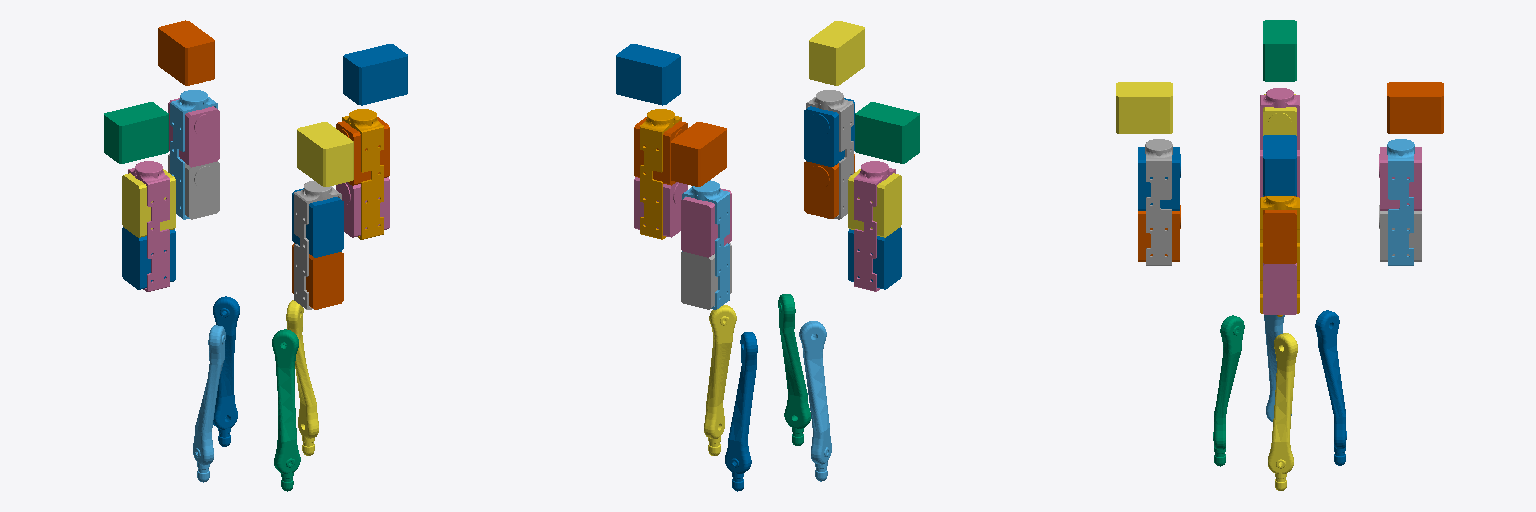
--- What the picture shows (computed from the rendered views, not written in the file) ---
3 views of the same robot in one strip: view 1: azimuth 30°, elevation 25°; view 2: azimuth 150°, elevation 25°; view 3: azimuth 270°, elevation 25° (orthographic).
Robot: robot — 38 links, 37 joints (12 revolute, 25 fixed); root link dummy; default pose: every joint at zero.
Visible links, largest first — view 1: 0-xm430_0, 2-xm430_0, 1-finger2, 3-xm430_0, 1-xm430_0, 0-dual_servo_shell, 2-dual_servo_shell, 3-finger2, 0-finger2, 1-xm430_1, 1-dual_servo_shell, 2-finger2 (+8 smaller); view 2: 0-xm430_0, 2-xm430_0, 1-xm430_0, 3-xm430_0, 0-finger2, 2-dual_servo_shell, 0-dual_servo_shell, 3-finger2, 2-finger2, 1-finger2, 3-dual_servo_shell, 1-xm430_1 (+8 smaller); view 3: 1-dual_servo_shell, 3-dual_servo_shell, 1-xm430_0, 3-xm430_0, 2-finger2, 3-finger2, 1-finger2, 0-xm430_0, 2-xm430_0, 2-xm430_1, 2-xm430_2, 1-xm430_1 (+7 smaller).
Link boxes in pixels (bbox=[...]): 0-xm430_0: bbox=[104, 102, 168, 163]; 2-xm430_0: bbox=[343, 44, 407, 105]; 1-finger2: bbox=[272, 329, 300, 491]; 3-xm430_0: bbox=[158, 20, 214, 85]; 1-xm430_0: bbox=[297, 122, 353, 186]; 0-dual_servo_shell: bbox=[128, 161, 169, 291]; 2-dual_servo_shell: bbox=[342, 109, 383, 239]; 3-finger2: bbox=[213, 296, 239, 446]; 0-finger2: bbox=[193, 325, 225, 482]; 1-xm430_1: bbox=[292, 188, 343, 257]; 1-dual_servo_shell: bbox=[294, 181, 341, 309]; 2-finger2: bbox=[286, 300, 318, 455]; 0-xm430_0: bbox=[855, 102, 919, 163]; 2-xm430_0: bbox=[616, 44, 680, 105]; 1-xm430_0: bbox=[809, 21, 864, 85]; 3-xm430_0: bbox=[671, 122, 726, 186]; 0-finger2: bbox=[799, 321, 831, 481]; 2-dual_servo_shell: bbox=[640, 109, 681, 239]; 0-dual_servo_shell: bbox=[854, 161, 895, 291]; 3-finger2: bbox=[725, 332, 757, 491]; 2-finger2: bbox=[704, 305, 736, 455]; 1-finger2: bbox=[778, 294, 810, 445]; 3-dual_servo_shell: bbox=[682, 180, 729, 309]; 1-xm430_1: bbox=[804, 98, 854, 166]; 1-dual_servo_shell: bbox=[1145, 139, 1172, 265]; 3-dual_servo_shell: bbox=[1387, 139, 1414, 265]; 1-xm430_0: bbox=[1116, 82, 1172, 133]; 3-xm430_0: bbox=[1387, 82, 1443, 133]; 2-finger2: bbox=[1268, 333, 1297, 490]; 3-finger2: bbox=[1315, 310, 1346, 465]; 1-finger2: bbox=[1213, 315, 1244, 466]; 0-xm430_0: bbox=[1263, 20, 1296, 81]; 2-xm430_0: bbox=[1263, 135, 1296, 195]; 2-xm430_1: bbox=[1263, 196, 1296, 263]; 2-xm430_2: bbox=[1263, 263, 1296, 314]; 1-xm430_1: bbox=[1138, 147, 1180, 210].
Size in the robot's own frame: 0.2705 by 0.2705 by 0.3429 metres.
Meshes: 6 distinct files referenced, 20 mesh visuals loaded (3 OBJ); not drawn: 12 (reference not matched to a file when rendering).

The robot description file, URDF, robot "robot":
<?xml version="1.0" encoding="utf-8"?>
<!-- =================================================================================== -->
<!-- |    This document was autogenerated by xacro from quad_finger.urdf.xacro         | -->
<!-- |    EDITING THIS FILE BY HAND IS NOT RECOMMENDED                                 | -->
<!-- =================================================================================== -->
<robot>
  <link name="dummy">
    <inertial>
      <mass value="0"/>
      <inertia ixx="0.0" ixy="0.0" ixz="0.0" iyy="0.0" iyz="0.0" izz="0.0"/>
    </inertial>
  </link>
  <link name="z_offset_link">
    <inertial>
      <mass value="0"/>
      <inertia ixx="0.0" ixy="0.0" ixz="0.0" iyy="0.0" iyz="0.0" izz="0.0"/>
    </inertial>
  </link>
  <joint name="z_offset" type="fixed">
    <parent link="dummy"/>
    <child link="z_offset_link"/>
    <origin rpy="0 0 0" xyz="0 0 0.5"/>
  </joint>
  <!-->
                module 4

       module1  . origin  module 3

                 module 2
    <-->
  <link name="0-xm430_0">
    <inertial>
      <origin rpy="0 0 0" xyz="-4.0773796e-3 -1.5304911e-2 -1.6871895e-2"/>
      <mass value="0.082"/>
      <inertia ixx="2.3729564e-5" ixy="-1.3079758e-7" ixz="-8.1403365e-8" iyy="1.3112295e-5" iyz="-1.9659314e-6" izz="2.0942871e-5"/>
    </inertial>
    <visual>
      <origin rpy="0.0 0.0 0.0" xyz="0.0 0.0 0.0"/>
      <geometry>
        <mesh filename="./mesh/xm430.obj" scale="0.001 0.001 0.001"/>
      </geometry>
    </visual>
    <collision>
      <origin rpy="0.0 0.0 0.0" xyz="0.0 0.0 0.0"/>
      <geometry>
        <mesh filename="./mesh/xm430.obj" scale="0.001 0.001 0.001"/>
      </geometry>
    </collision>
  </link>
  <link name="0-xm430_1">
    <inertial>
      <origin rpy="0 0 0" xyz="-4.0773796e-3 -1.5304911e-2 -1.6871895e-2"/>
      <mass value="0.082"/>
      <inertia ixx="2.3729564e-5" ixy="-1.3079758e-7" ixz="-8.1403365e-8" iyy="1.3112295e-5" iyz="-1.9659314e-6" izz="2.0942871e-5"/>
    </inertial>
    <visual>
      <origin rpy="0.0 0.0 0.0" xyz="0.0 0.0 0.0"/>
      <geometry>
        <mesh filename="./mesh/xm430.obj" scale="0.001 0.001 0.001"/>
      </geometry>
    </visual>
    <collision>
      <origin rpy="0.0 0.0 0.0" xyz="0.0 0.0 0.0"/>
      <geometry>
        <mesh filename="./mesh/xm430.obj" scale="0.001 0.001 0.001"/>
      </geometry>
    </collision>
  </link>
  <link name="0-xm430_2">
    <inertial>
      <origin rpy="0 0 0" xyz="-4.0773796e-3 -1.5304911e-2 -1.6871895e-2"/>
      <mass value="0.082"/>
      <inertia ixx="2.3729564e-5" ixy="-1.3079758e-7" ixz="-8.1403365e-8" iyy="1.3112295e-5" iyz="-1.9659314e-6" izz="2.0942871e-5"/>
    </inertial>
    <visual>
      <origin rpy="0.0 0.0 0.0" xyz="0.0 0.0 0.0"/>
      <geometry>
        <mesh filename="./mesh/xm430.obj" scale="0.001 0.001 0.001"/>
      </geometry>
    </visual>
    <collision>
      <origin rpy="0.0 0.0 0.0" xyz="0.0 0.0 0.0"/>
      <geometry>
        <mesh filename="./mesh/xm430.obj" scale="0.001 0.001 0.001"/>
      </geometry>
    </collision>
  </link>
  <link name="0-base_motor_frame">
    <inertial>
      <origin rpy="0 0 0" xyz="6.48e-08 -0.0015864406 0.0250889877"/>
      <mass value="0.0768049156"/>
      <inertia ixx="5.65659e-05" ixy="-0.0" ixz="1e-10" iyy="5.30145e-05" iyz="1.1663e-06" izz="3.40217e-05"/>
    </inertial>
    <visual>
      <origin rpy="0 0 0" xyz="0 0 0"/>
      <geometry>
        <mesh filename="./mesh/base_motor_frame.obj" scale="0.001 0.001 0.001"/>
      </geometry>
    </visual>
    <collision>
      <origin rpy="0 0 0" xyz="0 0 0"/>
      <geometry>
        <mesh filename="./mesh/base_motor_frame.obj" scale="0.001 0.001 0.001"/>
      </geometry>
    </collision>
  </link>
  <link name="0-dual_servo_shell">
    <inertial>
      <origin rpy="0 0 0" xyz="0.0005322566 -0.0003161331 0.0506920676"/>
      <mass value="0.0258069457"/>
      <inertia ixx="4.11451e-05" ixy="7.82e-08" ixz="-7.721e-07" iyy="4.42386e-05" iyz="2.774e-07" izz="4.8477e-06"/>
    </inertial>
    <visual>
      <origin rpy="0.0 0.0 0.0" xyz="0.0 0.0 0.0"/>
      <geometry>
        <mesh filename="./mesh/dual_servo_shell.obj" scale="0.001 0.001 0.001"/>
      </geometry>
    </visual>
    <collision>
      <origin rpy="0.0 0.0 0.0" xyz="0.0 0.0 0.0"/>
      <geometry>
        <mesh filename="./mesh/dual_servo_shell.obj" scale="0.001 0.001 0.001"/>
      </geometry>
    </collision>
  </link>
  <link name="0-dual_servo_transmission">
    <inertial>
      <origin rpy="0 0 0" xyz="-1.41e-08 0.0095354556 0.0141401617"/>
      <mass value="0.0576887165"/>
      <inertia ixx="2.78223e-05" ixy="5.7e-09" ixz="-0.0" iyy="1.35978e-05" iyz="4.5419e-06" izz="2.50167e-05"/>
    </inertial>
    <visual>
      <origin rpy="0.0 0.0 0.0" xyz="0.0 0.0 0.0"/>
      <geometry>
        <mesh filename="./mesh/dual_servo_transmission_simplified.obj" scale="0.001 0.001 0.001"/>
      </geometry>
    </visual>
    <collision>
      <origin rpy="0.0 0.0 0.0" xyz="0.0 0.0 0.0"/>
      <geometry>
        <mesh filename="./mesh/dual_servo_transmission_simplified.obj" scale="0.001 0.001 0.001"/>
      </geometry>
    </collision>
  </link>
  <link name="0-finger1">
    <inertial>
      <origin rpy="0 0 0" xyz=" -0.0026344221 -0.0673645556 -0.0033892017"/>
      <mass value="0.0273686016"/>
      <inertia ixx="3.82526e-05" ixy="-1.6373e-06" ixz="-1.96e-07" iyy="1.4086e-06" iyz="4.307e-07" izz="3.86145e-05"/>
    </inertial>
    <visual>
      <origin rpy="0.0 0.0 0.0" xyz="0.0 0.0 0.0"/>
      <geometry>
        <mesh filename="./mesh/finger1.obj" scale="0.001 0.001 0.001"/>
      </geometry>
    </visual>
    <collision>
      <origin rpy="0.0 0.0 0.0" xyz="0.0 0.0 0.0"/>
      <geometry>
        <mesh filename="./mesh/finger1.obj" scale="0.001 0.001 0.001"/>
      </geometry>
    </collision>
  </link>
  <link name="0-finger2">
    <inertial>
      <origin rpy="0 0 0" xyz=" -0.0025634596 -0.0642987636 0.003878593"/>
      <mass value="0.0282885857"/>
      <inertia ixx="4.51291e-05" ixy="-1.8472e-06" ixz="1.613e-07" iyy="1.3194e-06" iyz="-1.3204e-06" izz="4.53013e-05"/>
    </inertial>
    <visual>
      <origin rpy="0.0 0.0 0.0" xyz="0.0 0.0 0.0"/>
      <geometry>
        <mesh filename="./mesh/finger2.obj" scale="0.001 0.001 0.001"/>
      </geometry>
    </visual>
    <collision>
      <origin rpy="0.0 0.0 0.0" xyz="0.0 0.0 0.0"/>
      <geometry>
        <mesh filename="./mesh/finger2.obj" scale="0.001 0.001 0.001"/>
      </geometry>
    </collision>
  </link>
  <!--Create joints to connect the parts-->
  <!--Fix the module to module parent link-->
  <joint name="0-module_to_parent" type="fixed">
    <parent link="z_offset_link"/>
    <child link="0-base_motor_frame"/>
    <origin rpy="3.14159265 0 1.570796325" xyz="-0.1 0 0"/>
  </joint>
  <!--Fix the parts which are not supposed to move-->
  <joint name="0-fix_xm430_0" type="fixed">
    <parent link="0-base_motor_frame"/>
    <child link="0-xm430_0"/>
    <origin rpy="0 0 0" xyz="0 0 0.054"/>
  </joint>
  <joint name="0-fix_xm430_1" type="fixed">
    <parent link="0-dual_servo_shell"/>
    <child link="0-xm430_1"/>
    <origin rpy="-1.570796325 0 0" xyz="0 0.019 0.0334"/>
  </joint>
  <joint name="0-fix_xm430_2" type="fixed">
    <parent link="0-xm430_1"/>
    <child link="0-xm430_2"/>
    <origin rpy="0 0 0" xyz="0 -0.0465 0"/>
  </joint>
  <joint name="0-fix_transmission" type="fixed">
    <parent link="0-xm430_2"/>
    <child link="0-dual_servo_transmission"/>
    <origin rpy="0 0 0" xyz="0 0 0"/>
  </joint>
  <!--DoFs, joints corresponding to the degrees of actuation-->
  <joint name="0-dof1" type="revolute">
    <parent link="0-xm430_0"/>
    <child link="0-dual_servo_shell"/>
    <axis xyz="0 0 -1"/>
    <limit effort="1000" lower="-3.14159265" upper="3.14159265" velocity="1000"/>
    <origin rpy="0 0 0" xyz="0 0 0"/>
  </joint>
  <joint name="0-dof2" type="revolute">
    <parent link="0-xm430_2"/>
    <child link="0-finger1"/>
    <axis xyz="0 0 -1"/>
    <limit effort="1000" lower="-1.570796325" upper="1.570796325" velocity="1000"/>
    <origin rpy="0 0 0" xyz="0 0 0.0368"/>
  </joint>
  <joint name="0-dof3" type="revolute">
    <parent link="0-finger1"/>
    <child link="0-finger2"/>
    <axis xyz="0 0 -1"/>
    <limit effort="1000" lower="-2.3561944875" upper="2.3561944875" velocity="1000"/>
    <origin rpy="0 -0.7853981625 0" xyz="-0.0014142 -0.1 0.0014142"/>
  </joint>
  <!--frames that may be helpful-->
  <link name="0-fingertip_frame">
    <geometry>
      <origin rpy="0 0 0" xyz="0 0 0"/>
    </geometry>
  </link>
  <joint name="0-fingertip_frame_fix" type="fixed">
    <parent link="0-finger2"/>
    <child link="0-fingertip_frame"/>
    <origin rpy="0 0 0" xyz="-0.004242 -0.12 -0.004242"/>
  </joint>
  <link name="1-xm430_0">
    <inertial>
      <origin rpy="0 0 0" xyz="-4.0773796e-3 -1.5304911e-2 -1.6871895e-2"/>
      <mass value="0.082"/>
      <inertia ixx="2.3729564e-5" ixy="-1.3079758e-7" ixz="-8.1403365e-8" iyy="1.3112295e-5" iyz="-1.9659314e-6" izz="2.0942871e-5"/>
    </inertial>
    <visual>
      <origin rpy="0.0 0.0 0.0" xyz="0.0 0.0 0.0"/>
      <geometry>
        <mesh filename="./mesh/xm430.obj" scale="0.001 0.001 0.001"/>
      </geometry>
    </visual>
    <collision>
      <origin rpy="0.0 0.0 0.0" xyz="0.0 0.0 0.0"/>
      <geometry>
        <mesh filename="./mesh/xm430.obj" scale="0.001 0.001 0.001"/>
      </geometry>
    </collision>
  </link>
  <link name="1-xm430_1">
    <inertial>
      <origin rpy="0 0 0" xyz="-4.0773796e-3 -1.5304911e-2 -1.6871895e-2"/>
      <mass value="0.082"/>
      <inertia ixx="2.3729564e-5" ixy="-1.3079758e-7" ixz="-8.1403365e-8" iyy="1.3112295e-5" iyz="-1.9659314e-6" izz="2.0942871e-5"/>
    </inertial>
    <visual>
      <origin rpy="0.0 0.0 0.0" xyz="0.0 0.0 0.0"/>
      <geometry>
        <mesh filename="./mesh/xm430.obj" scale="0.001 0.001 0.001"/>
      </geometry>
    </visual>
    <collision>
      <origin rpy="0.0 0.0 0.0" xyz="0.0 0.0 0.0"/>
      <geometry>
        <mesh filename="./mesh/xm430.obj" scale="0.001 0.001 0.001"/>
      </geometry>
    </collision>
  </link>
  <link name="1-xm430_2">
    <inertial>
      <origin rpy="0 0 0" xyz="-4.0773796e-3 -1.5304911e-2 -1.6871895e-2"/>
      <mass value="0.082"/>
      <inertia ixx="2.3729564e-5" ixy="-1.3079758e-7" ixz="-8.1403365e-8" iyy="1.3112295e-5" iyz="-1.9659314e-6" izz="2.0942871e-5"/>
    </inertial>
    <visual>
      <origin rpy="0.0 0.0 0.0" xyz="0.0 0.0 0.0"/>
      <geometry>
        <mesh filename="./mesh/xm430.obj" scale="0.001 0.001 0.001"/>
      </geometry>
    </visual>
    <collision>
      <origin rpy="0.0 0.0 0.0" xyz="0.0 0.0 0.0"/>
      <geometry>
        <mesh filename="./mesh/xm430.obj" scale="0.001 0.001 0.001"/>
      </geometry>
    </collision>
  </link>
  <link name="1-base_motor_frame">
    <inertial>
      <origin rpy="0 0 0" xyz="6.48e-08 -0.0015864406 0.0250889877"/>
      <mass value="0.0768049156"/>
      <inertia ixx="5.65659e-05" ixy="-0.0" ixz="1e-10" iyy="5.30145e-05" iyz="1.1663e-06" izz="3.40217e-05"/>
    </inertial>
    <visual>
      <origin rpy="0 0 0" xyz="0 0 0"/>
      <geometry>
        <mesh filename="./mesh/base_motor_frame.obj" scale="0.001 0.001 0.001"/>
      </geometry>
    </visual>
    <collision>
      <origin rpy="0 0 0" xyz="0 0 0"/>
      <geometry>
        <mesh filename="./mesh/base_motor_frame.obj" scale="0.001 0.001 0.001"/>
      </geometry>
    </collision>
  </link>
  <link name="1-dual_servo_shell">
    <inertial>
      <origin rpy="0 0 0" xyz="0.0005322566 -0.0003161331 0.0506920676"/>
      <mass value="0.0258069457"/>
      <inertia ixx="4.11451e-05" ixy="7.82e-08" ixz="-7.721e-07" iyy="4.42386e-05" iyz="2.774e-07" izz="4.8477e-06"/>
    </inertial>
    <visual>
      <origin rpy="0.0 0.0 0.0" xyz="0.0 0.0 0.0"/>
      <geometry>
        <mesh filename="./mesh/dual_servo_shell.obj" scale="0.001 0.001 0.001"/>
      </geometry>
    </visual>
    <collision>
      <origin rpy="0.0 0.0 0.0" xyz="0.0 0.0 0.0"/>
      <geometry>
        <mesh filename="./mesh/dual_servo_shell.obj" scale="0.001 0.001 0.001"/>
      </geometry>
    </collision>
  </link>
  <link name="1-dual_servo_transmission">
    <inertial>
      <origin rpy="0 0 0" xyz="-1.41e-08 0.0095354556 0.0141401617"/>
      <mass value="0.0576887165"/>
      <inertia ixx="2.78223e-05" ixy="5.7e-09" ixz="-0.0" iyy="1.35978e-05" iyz="4.5419e-06" izz="2.50167e-05"/>
    </inertial>
    <visual>
      <origin rpy="0.0 0.0 0.0" xyz="0.0 0.0 0.0"/>
      <geometry>
        <mesh filename="./mesh/dual_servo_transmission_simplified.obj" scale="0.001 0.001 0.001"/>
      </geometry>
    </visual>
    <collision>
      <origin rpy="0.0 0.0 0.0" xyz="0.0 0.0 0.0"/>
      <geometry>
        <mesh filename="./mesh/dual_servo_transmission_simplified.obj" scale="0.001 0.001 0.001"/>
      </geometry>
    </collision>
  </link>
  <link name="1-finger1">
    <inertial>
      <origin rpy="0 0 0" xyz=" -0.0026344221 -0.0673645556 -0.0033892017"/>
      <mass value="0.0273686016"/>
      <inertia ixx="3.82526e-05" ixy="-1.6373e-06" ixz="-1.96e-07" iyy="1.4086e-06" iyz="4.307e-07" izz="3.86145e-05"/>
    </inertial>
    <visual>
      <origin rpy="0.0 0.0 0.0" xyz="0.0 0.0 0.0"/>
      <geometry>
        <mesh filename="./mesh/finger1.obj" scale="0.001 0.001 0.001"/>
      </geometry>
    </visual>
    <collision>
      <origin rpy="0.0 0.0 0.0" xyz="0.0 0.0 0.0"/>
      <geometry>
        <mesh filename="./mesh/finger1.obj" scale="0.001 0.001 0.001"/>
      </geometry>
    </collision>
  </link>
  <link name="1-finger2">
    <inertial>
      <origin rpy="0 0 0" xyz=" -0.0025634596 -0.0642987636 0.003878593"/>
      <mass value="0.0282885857"/>
      <inertia ixx="4.51291e-05" ixy="-1.8472e-06" ixz="1.613e-07" iyy="1.3194e-06" iyz="-1.3204e-06" izz="4.53013e-05"/>
    </inertial>
    <visual>
      <origin rpy="0.0 0.0 0.0" xyz="0.0 0.0 0.0"/>
      <geometry>
        <mesh filename="./mesh/finger2.obj" scale="0.001 0.001 0.001"/>
      </geometry>
    </visual>
    <collision>
      <origin rpy="0.0 0.0 0.0" xyz="0.0 0.0 0.0"/>
      <geometry>
        <mesh filename="./mesh/finger2.obj" scale="0.001 0.001 0.001"/>
      </geometry>
    </collision>
  </link>
  <!--Create joints to connect the parts-->
  <!--Fix the module to module parent link-->
  <joint name="1-module_to_parent" type="fixed">
    <parent link="z_offset_link"/>
    <child link="1-base_motor_frame"/>
    <origin rpy="3.14159265 0 3.14159265" xyz="0 -0.1 0"/>
  </joint>
  <!--Fix the parts which are not supposed to move-->
  <joint name="1-fix_xm430_0" type="fixed">
    <parent link="1-base_motor_frame"/>
    <child link="1-xm430_0"/>
    <origin rpy="0 0 0" xyz="0 0 0.054"/>
  </joint>
  <joint name="1-fix_xm430_1" type="fixed">
    <parent link="1-dual_servo_shell"/>
    <child link="1-xm430_1"/>
    <origin rpy="-1.570796325 0 0" xyz="0 0.019 0.0334"/>
  </joint>
  <joint name="1-fix_xm430_2" type="fixed">
    <parent link="1-xm430_1"/>
    <child link="1-xm430_2"/>
    <origin rpy="0 0 0" xyz="0 -0.0465 0"/>
  </joint>
  <joint name="1-fix_transmission" type="fixed">
    <parent link="1-xm430_2"/>
    <child link="1-dual_servo_transmission"/>
    <origin rpy="0 0 0" xyz="0 0 0"/>
  </joint>
  <!--DoFs, joints corresponding to the degrees of actuation-->
  <joint name="1-dof1" type="revolute">
    <parent link="1-xm430_0"/>
    <child link="1-dual_servo_shell"/>
    <axis xyz="0 0 -1"/>
    <limit effort="1000" lower="-3.14159265" upper="3.14159265" velocity="1000"/>
    <origin rpy="0 0 0" xyz="0 0 0"/>
  </joint>
  <joint name="1-dof2" type="revolute">
    <parent link="1-xm430_2"/>
    <child link="1-finger1"/>
    <axis xyz="0 0 -1"/>
    <limit effort="1000" lower="-1.570796325" upper="1.570796325" velocity="1000"/>
    <origin rpy="0 0 0" xyz="0 0 0.0368"/>
  </joint>
  <joint name="1-dof3" type="revolute">
    <parent link="1-finger1"/>
    <child link="1-finger2"/>
    <axis xyz="0 0 -1"/>
    <limit effort="1000" lower="-2.3561944875" upper="2.3561944875" velocity="1000"/>
    <origin rpy="0 -0.7853981625 0" xyz="-0.0014142 -0.1 0.0014142"/>
  </joint>
  <!--frames that may be helpful-->
  <link name="1-fingertip_frame">
    <geometry>
      <origin rpy="0 0 0" xyz="0 0 0"/>
    </geometry>
  </link>
  <joint name="1-fingertip_frame_fix" type="fixed">
    <parent link="1-finger2"/>
    <child link="1-fingertip_frame"/>
    <origin rpy="0 0 0" xyz="-0.004242 -0.12 -0.004242"/>
  </joint>
  <link name="2-xm430_0">
    <inertial>
      <origin rpy="0 0 0" xyz="-4.0773796e-3 -1.5304911e-2 -1.6871895e-2"/>
      <mass value="0.082"/>
      <inertia ixx="2.3729564e-5" ixy="-1.3079758e-7" ixz="-8.1403365e-8" iyy="1.3112295e-5" iyz="-1.9659314e-6" izz="2.0942871e-5"/>
    </inertial>
    <visual>
      <origin rpy="0.0 0.0 0.0" xyz="0.0 0.0 0.0"/>
      <geometry>
        <mesh filename="./mesh/xm430.obj" scale="0.001 0.001 0.001"/>
      </geometry>
    </visual>
    <collision>
      <origin rpy="0.0 0.0 0.0" xyz="0.0 0.0 0.0"/>
      <geometry>
        <mesh filename="./mesh/xm430.obj" scale="0.001 0.001 0.001"/>
      </geometry>
    </collision>
  </link>
  <link name="2-xm430_1">
    <inertial>
      <origin rpy="0 0 0" xyz="-4.0773796e-3 -1.5304911e-2 -1.6871895e-2"/>
      <mass value="0.082"/>
      <inertia ixx="2.3729564e-5" ixy="-1.3079758e-7" ixz="-8.1403365e-8" iyy="1.3112295e-5" iyz="-1.9659314e-6" izz="2.0942871e-5"/>
    </inertial>
    <visual>
      <origin rpy="0.0 0.0 0.0" xyz="0.0 0.0 0.0"/>
      <geometry>
        <mesh filename="./mesh/xm430.obj" scale="0.001 0.001 0.001"/>
      </geometry>
    </visual>
    <collision>
      <origin rpy="0.0 0.0 0.0" xyz="0.0 0.0 0.0"/>
      <geometry>
        <mesh filename="./mesh/xm430.obj" scale="0.001 0.001 0.001"/>
      </geometry>
    </collision>
  </link>
  <link name="2-xm430_2">
    <inertial>
      <origin rpy="0 0 0" xyz="-4.0773796e-3 -1.5304911e-2 -1.6871895e-2"/>
      <mass value="0.082"/>
      <inertia ixx="2.3729564e-5" ixy="-1.3079758e-7" ixz="-8.1403365e-8" iyy="1.3112295e-5" iyz="-1.9659314e-6" izz="2.0942871e-5"/>
    </inertial>
    <visual>
      <origin rpy="0.0 0.0 0.0" xyz="0.0 0.0 0.0"/>
      <geometry>
        <mesh filename="./mesh/xm430.obj" scale="0.001 0.001 0.001"/>
      </geometry>
    </visual>
    <collision>
      <origin rpy="0.0 0.0 0.0" xyz="0.0 0.0 0.0"/>
      <geometry>
        <mesh filename="./mesh/xm430.obj" scale="0.001 0.001 0.001"/>
      </geometry>
    </collision>
  </link>
  <link name="2-base_motor_frame">
    <inertial>
      <origin rpy="0 0 0" xyz="6.48e-08 -0.0015864406 0.0250889877"/>
      <mass value="0.0768049156"/>
      <inertia ixx="5.65659e-05" ixy="-0.0" ixz="1e-10" iyy="5.30145e-05" iyz="1.1663e-06" izz="3.40217e-05"/>
    </inertial>
    <visual>
      <origin rpy="0 0 0" xyz="0 0 0"/>
      <geometry>
        <mesh filename="./mesh/base_motor_frame.obj" scale="0.001 0.001 0.001"/>
      </geometry>
    </visual>
    <collision>
      <origin rpy="0 0 0" xyz="0 0 0"/>
      <geometry>
        <mesh filename="./mesh/base_motor_frame.obj" scale="0.001 0.001 0.001"/>
      </geometry>
    </collision>
  </link>
  <link name="2-dual_servo_shell">
    <inertial>
      <origin rpy="0 0 0" xyz="0.0005322566 -0.0003161331 0.0506920676"/>
      <mass value="0.0258069457"/>
      <inertia ixx="4.11451e-05" ixy="7.82e-08" ixz="-7.721e-07" iyy="4.42386e-05" iyz="2.774e-07" izz="4.8477e-06"/>
    </inertial>
    <visual>
      <origin rpy="0.0 0.0 0.0" xyz="0.0 0.0 0.0"/>
      <geometry>
        <mesh filename="./mesh/dual_servo_shell.obj" scale="0.001 0.001 0.001"/>
      </geometry>
    </visual>
    <collision>
      <origin rpy="0.0 0.0 0.0" xyz="0.0 0.0 0.0"/>
      <geometry>
        <mesh filename="./mesh/dual_servo_shell.obj" scale="0.001 0.001 0.001"/>
      </geometry>
    </collision>
  </link>
  <link name="2-dual_servo_transmission">
    <inertial>
      <origin rpy="0 0 0" xyz="-1.41e-08 0.0095354556 0.0141401617"/>
      <mass value="0.0576887165"/>
      <inertia ixx="2.78223e-05" ixy="5.7e-09" ixz="-0.0" iyy="1.35978e-05" iyz="4.5419e-06" izz="2.50167e-05"/>
    </inertial>
    <visual>
      <origin rpy="0.0 0.0 0.0" xyz="0.0 0.0 0.0"/>
      <geometry>
        <mesh filename="./mesh/dual_servo_transmission_simplified.obj" scale="0.001 0.001 0.001"/>
      </geometry>
    </visual>
    <collision>
      <origin rpy="0.0 0.0 0.0" xyz="0.0 0.0 0.0"/>
      <geometry>
        <mesh filename="./mesh/dual_servo_transmission_simplified.obj" scale="0.001 0.001 0.001"/>
      </geometry>
    </collision>
  </link>
  <link name="2-finger1">
    <inertial>
      <origin rpy="0 0 0" xyz=" -0.0026344221 -0.0673645556 -0.0033892017"/>
      <mass value="0.0273686016"/>
      <inertia ixx="3.82526e-05" ixy="-1.6373e-06" ixz="-1.96e-07" iyy="1.4086e-06" iyz="4.307e-07" izz="3.86145e-05"/>
    </inertial>
    <visual>
      <origin rpy="0.0 0.0 0.0" xyz="0.0 0.0 0.0"/>
      <geometry>
        <mesh filename="./mesh/finger1.obj" scale="0.001 0.001 0.001"/>
      </geometry>
    </visual>
    <collision>
      <origin rpy="0.0 0.0 0.0" xyz="0.0 0.0 0.0"/>
      <geometry>
        <mesh filename="./mesh/finger1.obj" scale="0.001 0.001 0.001"/>
      </geometry>
    </collision>
  </link>
  <link name="2-finger2">
    <inertial>
      <origin rpy="0 0 0" xyz=" -0.0025634596 -0.0642987636 0.003878593"/>
      <mass value="0.0282885857"/>
      <inertia ixx="4.51291e-05" ixy="-1.8472e-06" ixz="1.613e-07" iyy="1.3194e-06" iyz="-1.3204e-06" izz="4.53013e-05"/>
    </inertial>
    <visual>
      <origin rpy="0.0 0.0 0.0" xyz="0.0 0.0 0.0"/>
      <geometry>
        <mesh filename="./mesh/finger2.obj" scale="0.001 0.001 0.001"/>
      </geometry>
    </visual>
    <collision>
      <origin rpy="0.0 0.0 0.0" xyz="0.0 0.0 0.0"/>
      <geometry>
        <mesh filename="./mesh/finger2.obj" scale="0.001 0.001 0.001"/>
      </geometry>
    </collision>
  </link>
  <!--Create joints to connect the parts-->
  <!--Fix the module to module parent link-->
  <joint name="2-module_to_parent" type="fixed">
    <parent link="z_offset_link"/>
    <child link="2-base_motor_frame"/>
    <origin rpy="3.14159265 0 -1.570796325" xyz="0.1 0 0"/>
  </joint>
  <!--Fix the parts which are not supposed to move-->
  <joint name="2-fix_xm430_0" type="fixed">
    <parent link="2-base_motor_frame"/>
    <child link="2-xm430_0"/>
    <origin rpy="0 0 0" xyz="0 0 0.054"/>
  </joint>
  <joint name="2-fix_xm430_1" type="fixed">
    <parent link="2-dual_servo_shell"/>
    <child link="2-xm430_1"/>
    <origin rpy="-1.570796325 0 0" xyz="0 0.019 0.0334"/>
  </joint>
  <joint name="2-fix_xm430_2" type="fixed">
    <parent link="2-xm430_1"/>
    <child link="2-xm430_2"/>
    <origin rpy="0 0 0" xyz="0 -0.0465 0"/>
  </joint>
  <joint name="2-fix_transmission" type="fixed">
    <parent link="2-xm430_2"/>
    <child link="2-dual_servo_transmission"/>
    <origin rpy="0 0 0" xyz="0 0 0"/>
  </joint>
  <!--DoFs, joints corresponding to the degrees of actuation-->
  <joint name="2-dof1" type="revolute">
    <parent link="2-xm430_0"/>
    <child link="2-dual_servo_shell"/>
    <axis xyz="0 0 -1"/>
    <limit effort="1000" lower="-3.14159265" upper="3.14159265" velocity="1000"/>
    <origin rpy="0 0 0" xyz="0 0 0"/>
  </joint>
  <joint name="2-dof2" type="revolute">
    <parent link="2-xm430_2"/>
    <child link="2-finger1"/>
    <axis xyz="0 0 -1"/>
    <limit effort="1000" lower="-1.570796325" upper="1.570796325" velocity="1000"/>
    <origin rpy="0 0 0" xyz="0 0 0.0368"/>
  </joint>
  <joint name="2-dof3" type="revolute">
    <parent link="2-finger1"/>
    <child link="2-finger2"/>
    <axis xyz="0 0 -1"/>
    <limit effort="1000" lower="-2.3561944875" upper="2.3561944875" velocity="1000"/>
    <origin rpy="0 -0.7853981625 0" xyz="-0.0014142 -0.1 0.0014142"/>
  </joint>
  <!--frames that may be helpful-->
  <link name="2-fingertip_frame">
    <geometry>
      <origin rpy="0 0 0" xyz="0 0 0"/>
    </geometry>
  </link>
  <joint name="2-fingertip_frame_fix" type="fixed">
    <parent link="2-finger2"/>
    <child link="2-fingertip_frame"/>
    <origin rpy="0 0 0" xyz="-0.004242 -0.12 -0.004242"/>
  </joint>
  <link name="3-xm430_0">
    <inertial>
      <origin rpy="0 0 0" xyz="-4.0773796e-3 -1.5304911e-2 -1.6871895e-2"/>
      <mass value="0.082"/>
      <inertia ixx="2.3729564e-5" ixy="-1.3079758e-7" ixz="-8.1403365e-8" iyy="1.3112295e-5" iyz="-1.9659314e-6" izz="2.0942871e-5"/>
    </inertial>
    <visual>
      <origin rpy="0.0 0.0 0.0" xyz="0.0 0.0 0.0"/>
      <geometry>
        <mesh filename="./mesh/xm430.obj" scale="0.001 0.001 0.001"/>
      </geometry>
    </visual>
    <collision>
      <origin rpy="0.0 0.0 0.0" xyz="0.0 0.0 0.0"/>
      <geometry>
        <mesh filename="./mesh/xm430.obj" scale="0.001 0.001 0.001"/>
      </geometry>
    </collision>
  </link>
  <link name="3-xm430_1">
    <inertial>
      <origin rpy="0 0 0" xyz="-4.0773796e-3 -1.5304911e-2 -1.6871895e-2"/>
      <mass value="0.082"/>
      <inertia ixx="2.3729564e-5" ixy="-1.3079758e-7" ixz="-8.1403365e-8" iyy="1.3112295e-5" iyz="-1.9659314e-6" izz="2.0942871e-5"/>
    </inertial>
    <visual>
      <origin rpy="0.0 0.0 0.0" xyz="0.0 0.0 0.0"/>
      <geometry>
        <mesh filename="./mesh/xm430.obj" scale="0.001 0.001 0.001"/>
      </geometry>
    </visual>
    <collision>
      <origin rpy="0.0 0.0 0.0" xyz="0.0 0.0 0.0"/>
      <geometry>
        <mesh filename="./mesh/xm430.obj" scale="0.001 0.001 0.001"/>
      </geometry>
    </collision>
  </link>
  <link name="3-xm430_2">
    <inertial>
      <origin rpy="0 0 0" xyz="-4.0773796e-3 -1.5304911e-2 -1.6871895e-2"/>
      <mass value="0.082"/>
      <inertia ixx="2.3729564e-5" ixy="-1.3079758e-7" ixz="-8.1403365e-8" iyy="1.3112295e-5" iyz="-1.9659314e-6" izz="2.0942871e-5"/>
    </inertial>
    <visual>
      <origin rpy="0.0 0.0 0.0" xyz="0.0 0.0 0.0"/>
      <geometry>
        <mesh filename="./mesh/xm430.obj" scale="0.001 0.001 0.001"/>
      </geometry>
    </visual>
    <collision>
      <origin rpy="0.0 0.0 0.0" xyz="0.0 0.0 0.0"/>
      <geometry>
        <mesh filename="./mesh/xm430.obj" scale="0.001 0.001 0.001"/>
      </geometry>
    </collision>
  </link>
  <link name="3-base_motor_frame">
    <inertial>
      <origin rpy="0 0 0" xyz="6.48e-08 -0.0015864406 0.0250889877"/>
      <mass value="0.0768049156"/>
      <inertia ixx="5.65659e-05" ixy="-0.0" ixz="1e-10" iyy="5.30145e-05" iyz="1.1663e-06" izz="3.40217e-05"/>
    </inertial>
    <visual>
      <origin rpy="0 0 0" xyz="0 0 0"/>
      <geometry>
        <mesh filename="./mesh/base_motor_frame.obj" scale="0.001 0.001 0.001"/>
      </geometry>
    </visual>
    <collision>
      <origin rpy="0 0 0" xyz="0 0 0"/>
      <geometry>
        <mesh filename="./mesh/base_motor_frame.obj" scale="0.001 0.001 0.001"/>
      </geometry>
    </collision>
  </link>
  <link name="3-dual_servo_shell">
    <inertial>
      <origin rpy="0 0 0" xyz="0.0005322566 -0.0003161331 0.0506920676"/>
      <mass value="0.0258069457"/>
      <inertia ixx="4.11451e-05" ixy="7.82e-08" ixz="-7.721e-07" iyy="4.42386e-05" iyz="2.774e-07" izz="4.8477e-06"/>
    </inertial>
    <visual>
      <origin rpy="0.0 0.0 0.0" xyz="0.0 0.0 0.0"/>
      <geometry>
        <mesh filename="./mesh/dual_servo_shell.obj" scale="0.001 0.001 0.001"/>
      </geometry>
    </visual>
    <collision>
      <origin rpy="0.0 0.0 0.0" xyz="0.0 0.0 0.0"/>
      <geometry>
        <mesh filename="./mesh/dual_servo_shell.obj" scale="0.001 0.001 0.001"/>
      </geometry>
    </collision>
  </link>
  <link name="3-dual_servo_transmission">
    <inertial>
      <origin rpy="0 0 0" xyz="-1.41e-08 0.0095354556 0.0141401617"/>
      <mass value="0.0576887165"/>
      <inertia ixx="2.78223e-05" ixy="5.7e-09" ixz="-0.0" iyy="1.35978e-05" iyz="4.5419e-06" izz="2.50167e-05"/>
    </inertial>
    <visual>
      <origin rpy="0.0 0.0 0.0" xyz="0.0 0.0 0.0"/>
      <geometry>
        <mesh filename="./mesh/dual_servo_transmission_simplified.obj" scale="0.001 0.001 0.001"/>
      </geometry>
    </visual>
    <collision>
      <origin rpy="0.0 0.0 0.0" xyz="0.0 0.0 0.0"/>
      <geometry>
        <mesh filename="./mesh/dual_servo_transmission_simplified.obj" scale="0.001 0.001 0.001"/>
      </geometry>
    </collision>
  </link>
  <link name="3-finger1">
    <inertial>
      <origin rpy="0 0 0" xyz=" -0.0026344221 -0.0673645556 -0.0033892017"/>
      <mass value="0.0273686016"/>
      <inertia ixx="3.82526e-05" ixy="-1.6373e-06" ixz="-1.96e-07" iyy="1.4086e-06" iyz="4.307e-07" izz="3.86145e-05"/>
    </inertial>
    <visual>
      <origin rpy="0.0 0.0 0.0" xyz="0.0 0.0 0.0"/>
      <geometry>
        <mesh filename="./mesh/finger1.obj" scale="0.001 0.001 0.001"/>
      </geometry>
    </visual>
    <collision>
      <origin rpy="0.0 0.0 0.0" xyz="0.0 0.0 0.0"/>
      <geometry>
        <mesh filename="./mesh/finger1.obj" scale="0.001 0.001 0.001"/>
      </geometry>
    </collision>
  </link>
  <link name="3-finger2">
    <inertial>
      <origin rpy="0 0 0" xyz=" -0.0025634596 -0.0642987636 0.003878593"/>
      <mass value="0.0282885857"/>
      <inertia ixx="4.51291e-05" ixy="-1.8472e-06" ixz="1.613e-07" iyy="1.3194e-06" iyz="-1.3204e-06" izz="4.53013e-05"/>
    </inertial>
    <visual>
      <origin rpy="0.0 0.0 0.0" xyz="0.0 0.0 0.0"/>
      <geometry>
        <mesh filename="./mesh/finger2.obj" scale="0.001 0.001 0.001"/>
      </geometry>
    </visual>
    <collision>
      <origin rpy="0.0 0.0 0.0" xyz="0.0 0.0 0.0"/>
      <geometry>
        <mesh filename="./mesh/finger2.obj" scale="0.001 0.001 0.001"/>
      </geometry>
    </collision>
  </link>
  <!--Create joints to connect the parts-->
  <!--Fix the module to module parent link-->
  <joint name="3-module_to_parent" type="fixed">
    <parent link="z_offset_link"/>
    <child link="3-base_motor_frame"/>
    <origin rpy="3.14159265 0 0" xyz="0 0.1 0"/>
  </joint>
  <!--Fix the parts which are not supposed to move-->
  <joint name="3-fix_xm430_0" type="fixed">
    <parent link="3-base_motor_frame"/>
    <child link="3-xm430_0"/>
    <origin rpy="0 0 0" xyz="0 0 0.054"/>
  </joint>
  <joint name="3-fix_xm430_1" type="fixed">
    <parent link="3-dual_servo_shell"/>
    <child link="3-xm430_1"/>
    <origin rpy="-1.570796325 0 0" xyz="0 0.019 0.0334"/>
  </joint>
  <joint name="3-fix_xm430_2" type="fixed">
    <parent link="3-xm430_1"/>
    <child link="3-xm430_2"/>
    <origin rpy="0 0 0" xyz="0 -0.0465 0"/>
  </joint>
  <joint name="3-fix_transmission" type="fixed">
    <parent link="3-xm430_2"/>
    <child link="3-dual_servo_transmission"/>
    <origin rpy="0 0 0" xyz="0 0 0"/>
  </joint>
  <!--DoFs, joints corresponding to the degrees of actuation-->
  <joint name="3-dof1" type="revolute">
    <parent link="3-xm430_0"/>
    <child link="3-dual_servo_shell"/>
    <axis xyz="0 0 -1"/>
    <limit effort="1000" lower="-3.14159265" upper="3.14159265" velocity="1000"/>
    <origin rpy="0 0 0" xyz="0 0 0"/>
  </joint>
  <joint name="3-dof2" type="revolute">
    <parent link="3-xm430_2"/>
    <child link="3-finger1"/>
    <axis xyz="0 0 -1"/>
    <limit effort="1000" lower="-1.570796325" upper="1.570796325" velocity="1000"/>
    <origin rpy="0 0 0" xyz="0 0 0.0368"/>
  </joint>
  <joint name="3-dof3" type="revolute">
    <parent link="3-finger1"/>
    <child link="3-finger2"/>
    <axis xyz="0 0 -1"/>
    <limit effort="1000" lower="-2.3561944875" upper="2.3561944875" velocity="1000"/>
    <origin rpy="0 -0.7853981625 0" xyz="-0.0014142 -0.1 0.0014142"/>
  </joint>
  <!--frames that may be helpful-->
  <link name="3-fingertip_frame">
    <geometry>
      <origin rpy="0 0 0" xyz="0 0 0"/>
    </geometry>
  </link>
  <joint name="3-fingertip_frame_fix" type="fixed">
    <parent link="3-finger2"/>
    <child link="3-fingertip_frame"/>
    <origin rpy="0 0 0" xyz="-0.004242 -0.12 -0.004242"/>
  </joint>
</robot>
